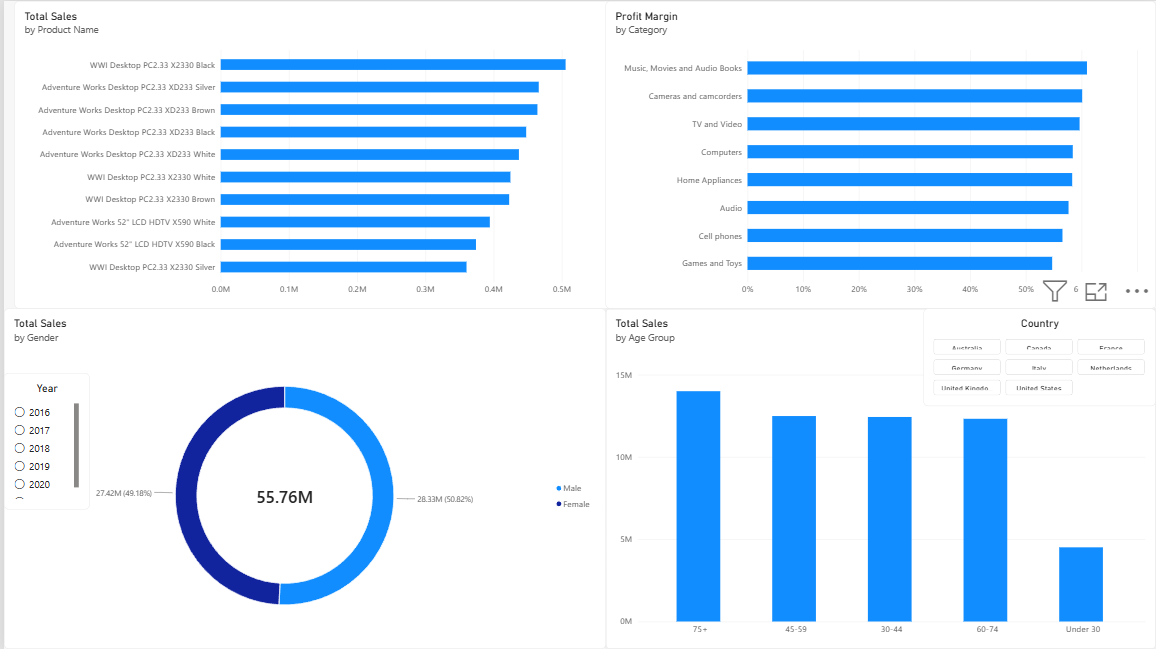

The page's visual inventory and layout, read from the dashboard file:
{"tool":"powerbi","page":{"name":"Product and Customer Analysis","canvas":[1920,1080],"ordinal":1},"visuals":[{"type":"clusteredBarChart","fields":{"Category":["Products_Cleaned.Product Name"],"Y":["Sales_Cleaned.Total Sales"]},"box":[17.1,0,1002.5,512.5],"z":0},{"type":"clusteredBarChart","fields":{"Category":["Products_Cleaned.Category"],"Y":["Sales_Cleaned.Profit Margin"]},"box":[1002.5,0,917.5,512.5],"z":1},{"type":"clusteredColumnChart","fields":{"Category":["Customers_Cleaned.Age Group"],"Y":["Sales_Cleaned.Total Sales"]},"box":[1003,513,917,567],"z":3},{"type":"donutChart","fields":{"Category":["Customers_Cleaned.Gender"],"Y":["Sales_Cleaned.Total Sales"]},"box":[0,513,1003,567],"z":4},{"type":"listSlicer","fields":{"Values":["DateTable.Year"]},"box":[0,620,142.5,227.5],"z":5},{"type":"advancedSlicerVisual","fields":{"Values":["Customers_Cleaned.Country"]},"box":[1532.5,512.5,387.5,162.5],"z":6}]}

Visuals, with their boxes in screenshot pixels (x1, y1, x2, y2), scaled from the page's 1920x1080 canvas onto the 1156x649 screenshot:
clusteredBarChart - Products_Cleaned.Product Name x Sales_Cleaned.Total Sales: [10,0,614,308]
clusteredBarChart - Products_Cleaned.Category x Sales_Cleaned.Profit Margin: [604,0,1155,308]
clusteredColumnChart - Customers_Cleaned.Age Group x Sales_Cleaned.Total Sales: [604,308,1155,648]
donutChart - Customers_Cleaned.Gender x Sales_Cleaned.Total Sales: [0,308,604,648]
listSlicer - DateTable.Year: [0,373,86,509]
advancedSlicerVisual - Customers_Cleaned.Country: [923,308,1155,406]
